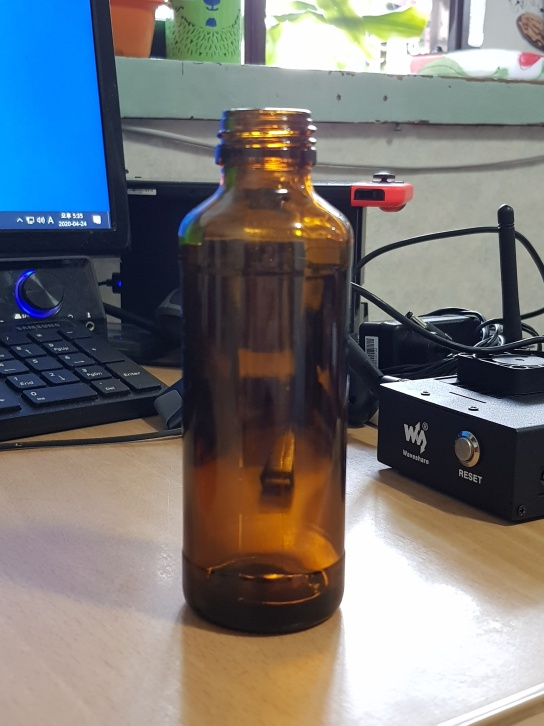Glass: (176, 103, 347, 639)
